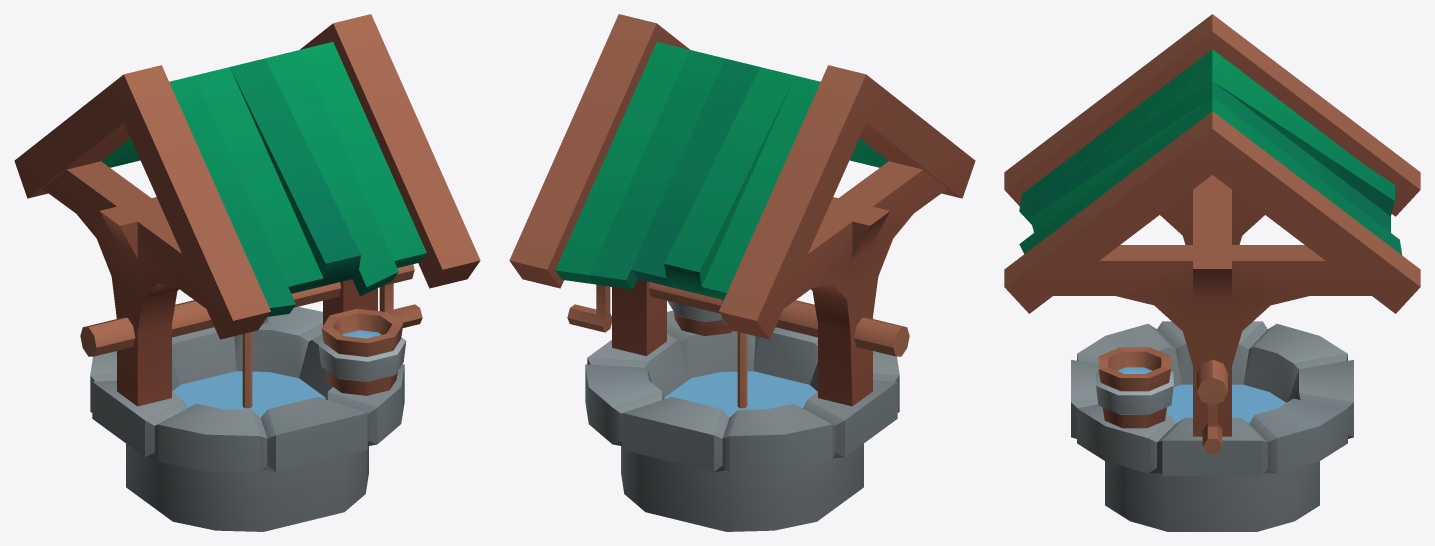
The model's file is kay-poco-verde.gltf.
3 views of the same model, side by side, from view 1: azimuth 30°, elevation 25°; view 2: azimuth 150°, elevation 25°; view 3: azimuth 270°, elevation 25° (orthographic). The views are drawn at different scales.
Visible parts, largest first — view 1: building_well_green; view 2: building_well_green; view 3: building_well_green.
Part boxes in pixels (box(x1,y1,x2,y2)): building_well_green: box(14, 14, 480, 531); building_well_green: box(509, 14, 975, 531); building_well_green: box(1004, 14, 1420, 531).
Bounding box in the file's own units: 3.26 × 4.13 × 3.75.
1 material, 1 textured.
